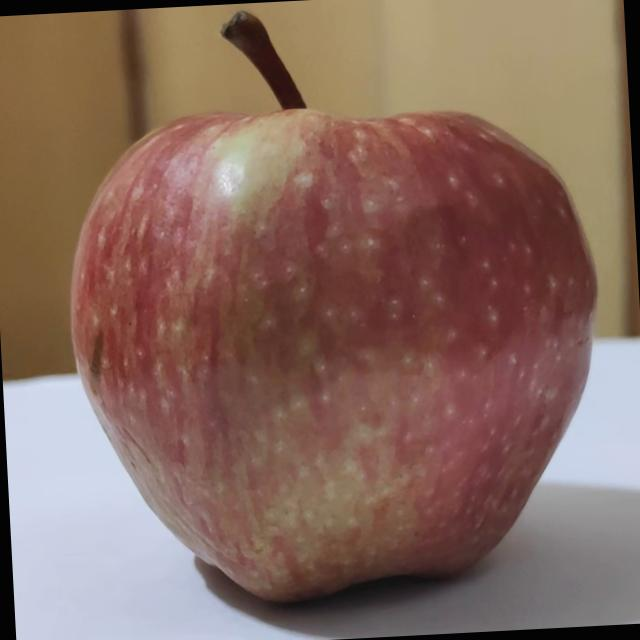apple: (14, 0, 633, 640)
